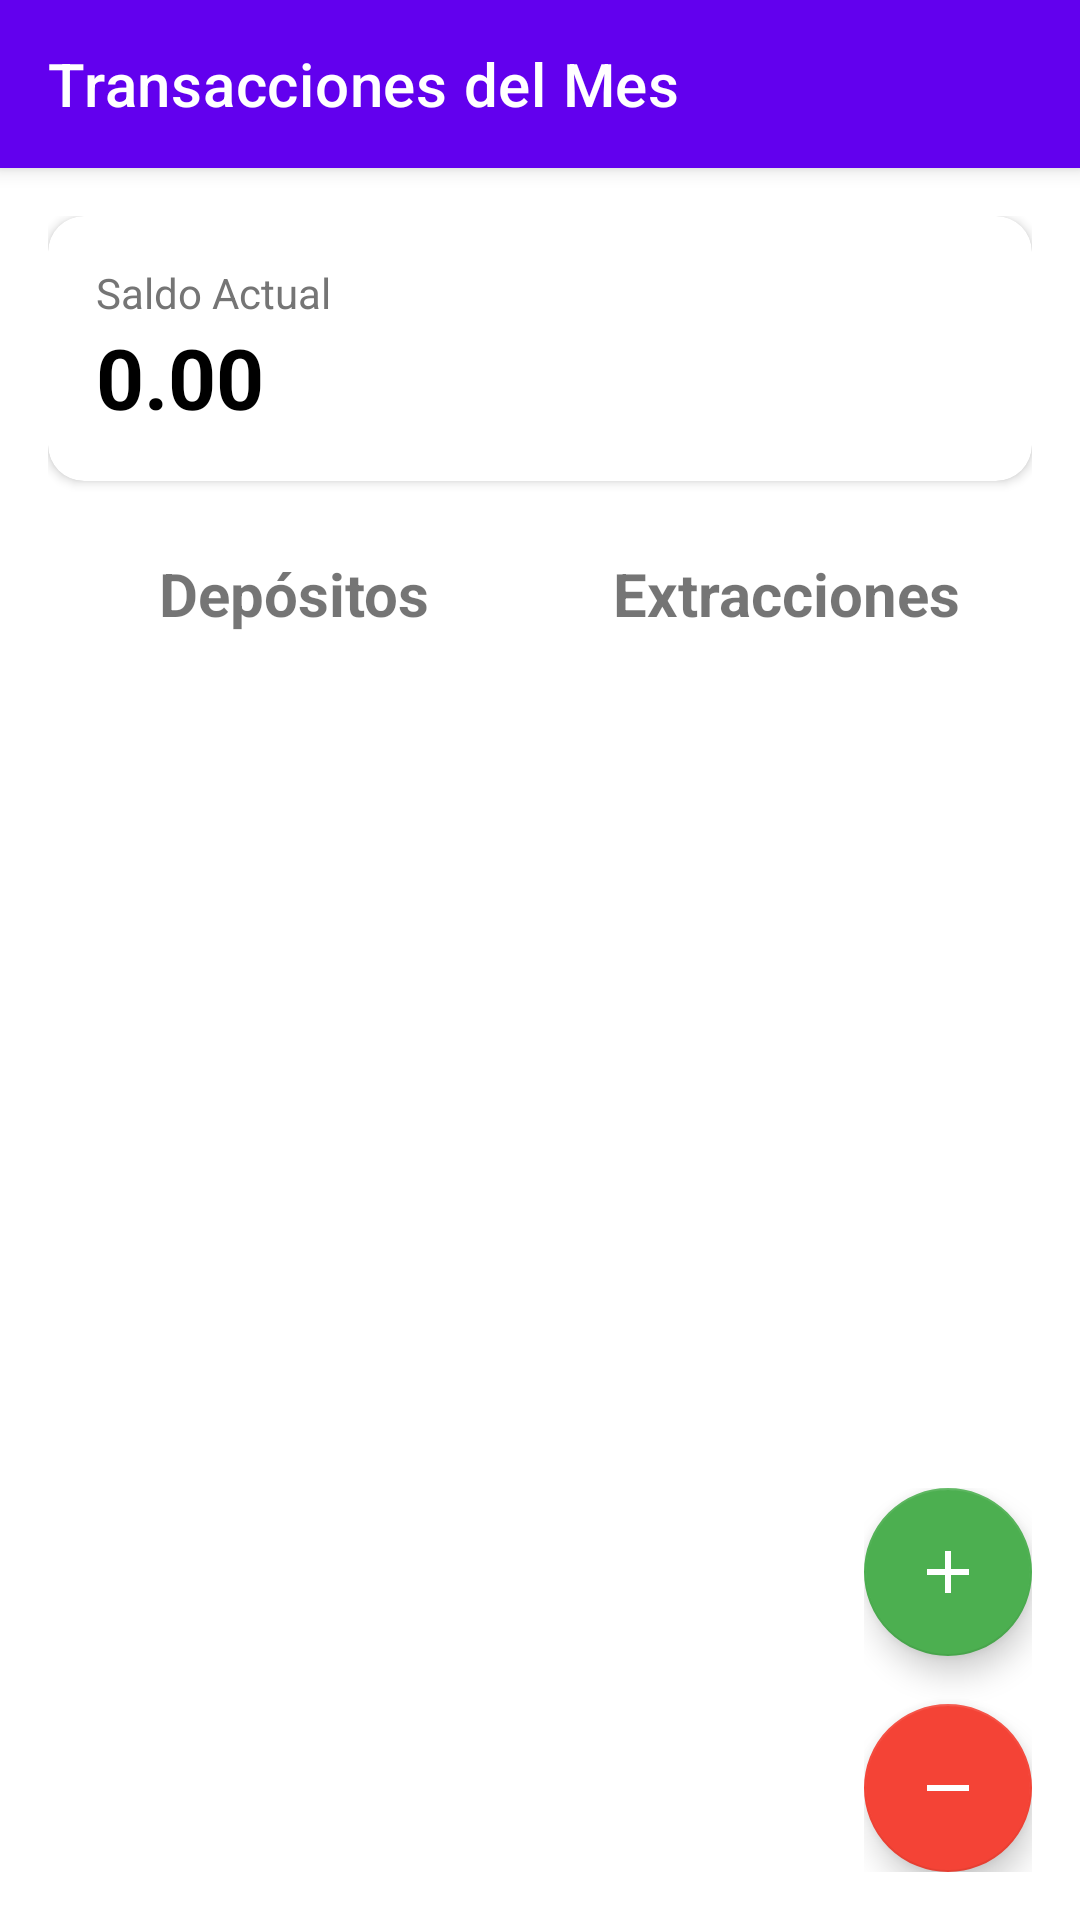

Named icons in this screenshot (1080px x 1920px) and their bounding boxes, (x1, y1, x2, y2):
Añadir depósito: (864, 1488, 1032, 1656)
Añadir extracción: (864, 1704, 1032, 1872)
